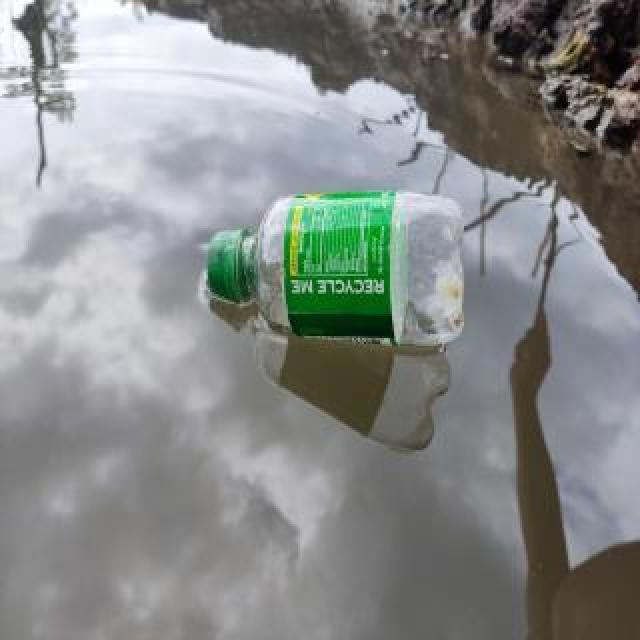bottle: (202, 186, 472, 354)
